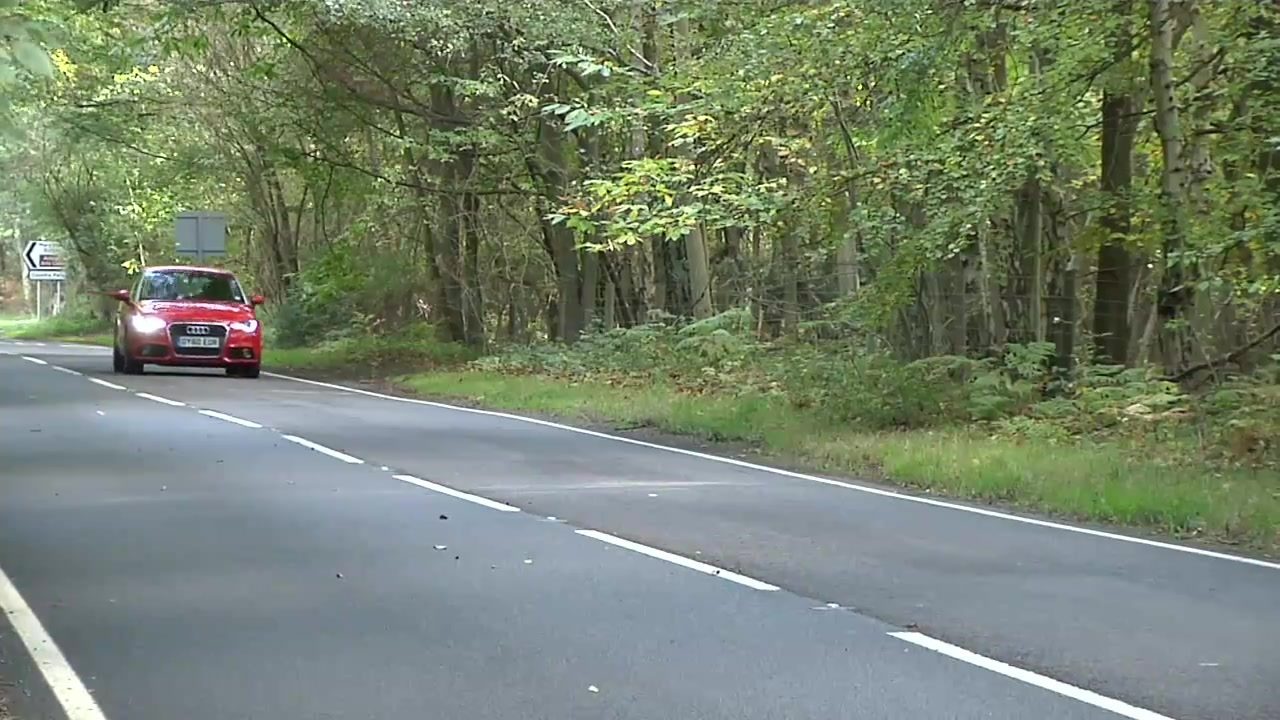car: (106, 262, 269, 383)
